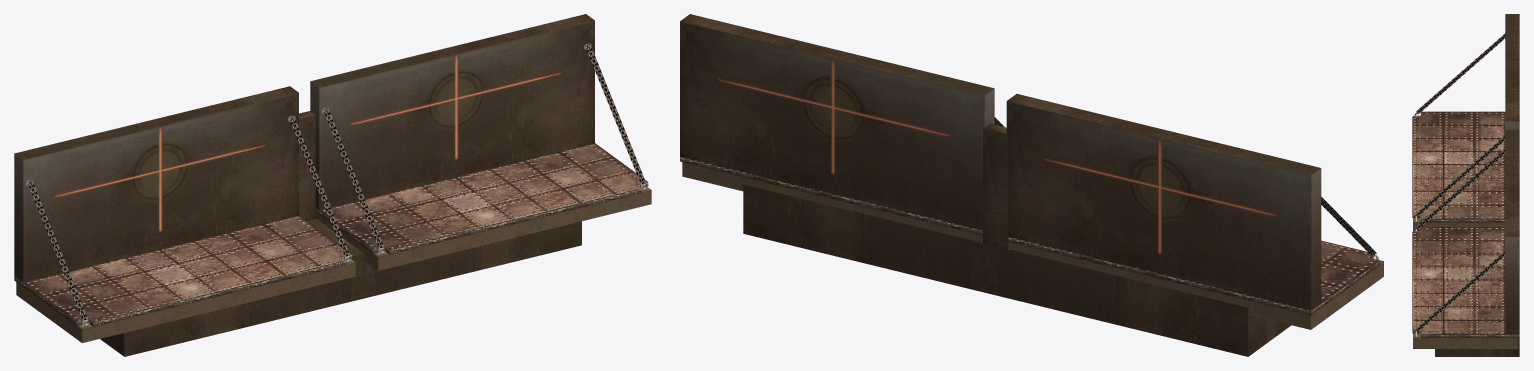
File: seat_bar_area.fbx
3 renders of one model, left to right at view 1: azimuth 30°, elevation 25°; view 2: azimuth 150°, elevation 25°; view 3: azimuth 270°, elevation 25°, orthographic. The views are drawn at different scales.
Visible parts, largest first — view 1: mesh_0, mesh_2; view 2: mesh_0; view 3: mesh_0, mesh_2.
Boxes of the visible parts, x1=… form: mesh_0: x1=14, y1=14, x2=651, y2=356; mesh_2: x1=28, y1=44, x2=646, y2=323; mesh_0: x1=680, y1=14, x2=1383, y2=356; mesh_0: x1=1412, y1=14, x2=1519, y2=356; mesh_2: x1=1414, y1=34, x2=1504, y2=331.
Bounding box in the file's own units: 500 × 149 × 102.
3 materials, 3 textured.
